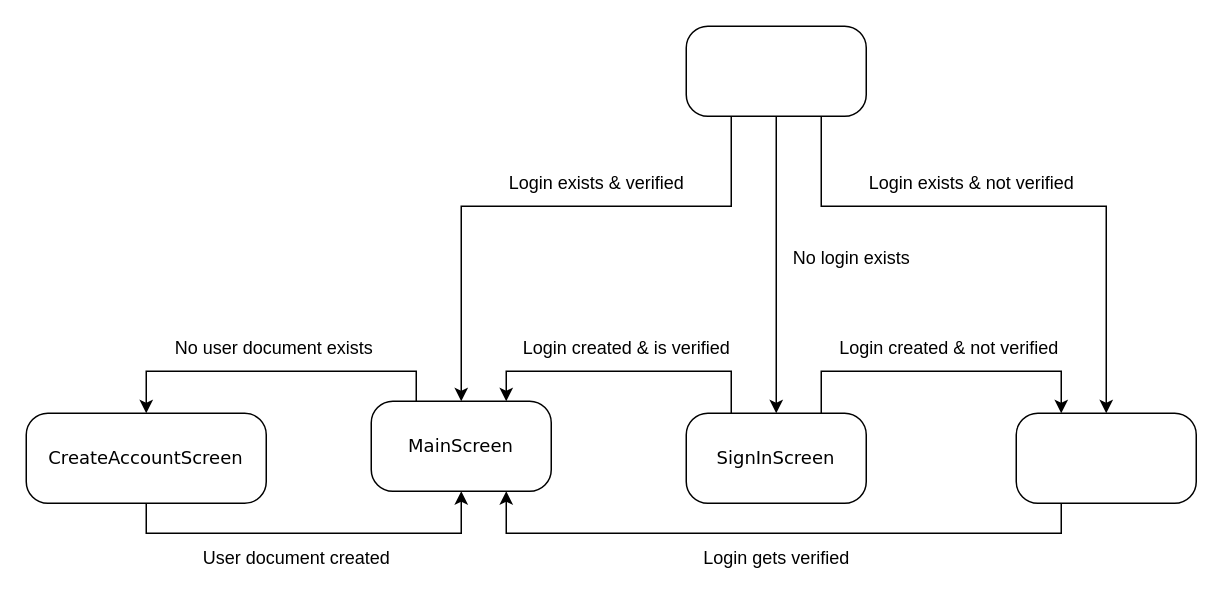
The diagram is 1223 pixels wide and 608 high, and some of its shapes have lost their labels. Here are the shapes that lost their labels. From the top down, the centre of each, then its label:
At pixel 775 70: "App".
At pixel 1105 457: "UnverifiedScreen".
